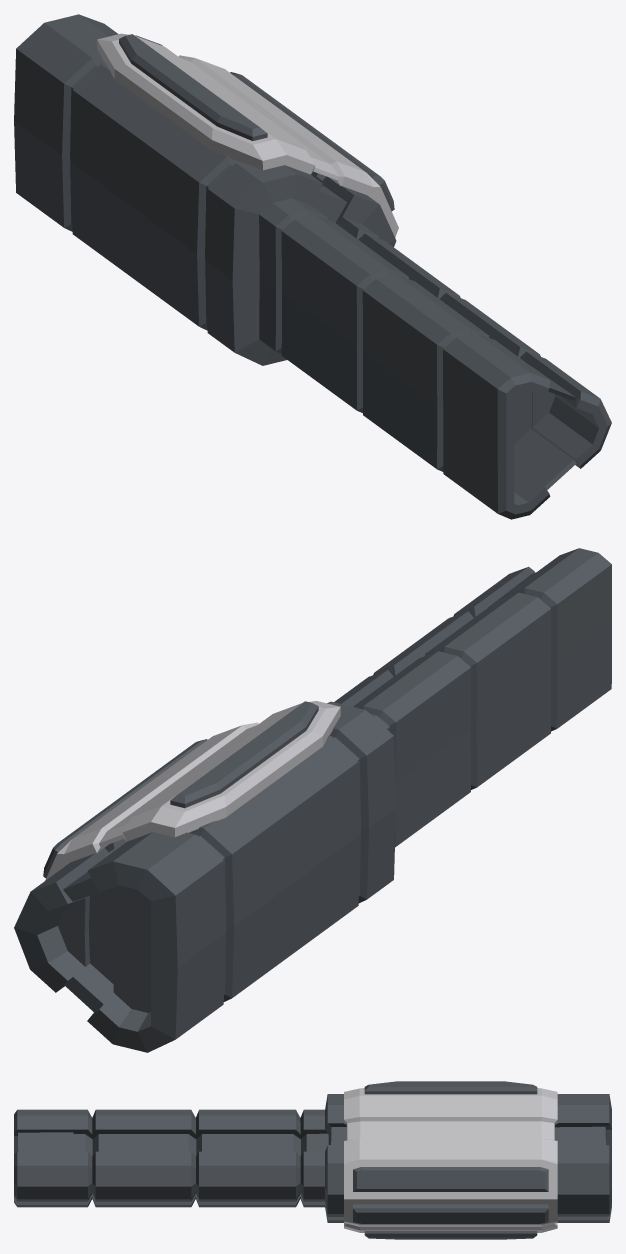
The model's file is Fighter_10_Thruster_Left.fbx.
The picture shows the model from 3 angles, top to bottom: view 1: azimuth 30°, elevation 25°; view 2: azimuth 150°, elevation 25°; view 3: azimuth 270°, elevation 25°; orthographic projection. The views are drawn at different scales.
Parts seen in each view (by area): view 1: Fighter_10_Thruster_Left; view 2: Fighter_10_Thruster_Left; view 3: Fighter_10_Thruster_Left.
Boxes of the visible parts, x1=… form: Fighter_10_Thruster_Left: x1=14, y1=14, x2=611, y2=519; Fighter_10_Thruster_Left: x1=14, y1=548, x2=611, y2=1052; Fighter_10_Thruster_Left: x1=14, y1=1081, x2=611, y2=1239.
Size of the model in its own units: 311 by 362 by 1360.
2 materials, 2 textured.
